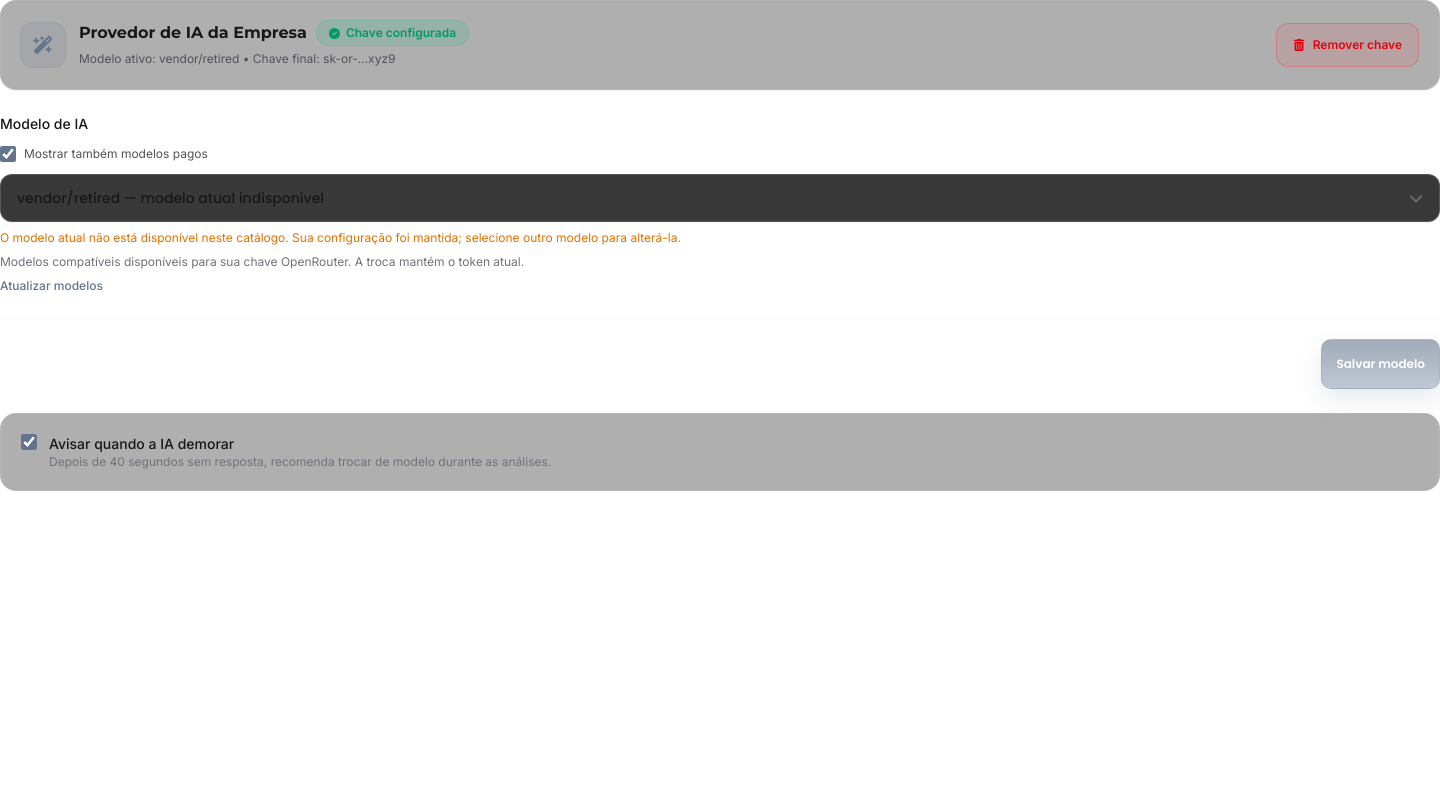
FormIaSettings — cadastro e remoção da chave › preserva modelo salvo ausente como opção desabilitada, sem selecionar outro automaticamente
Click the dropdown named "Modelo de IA".
click(170, 198)  # box x1=0 y1=174 x2=1439 y2=222
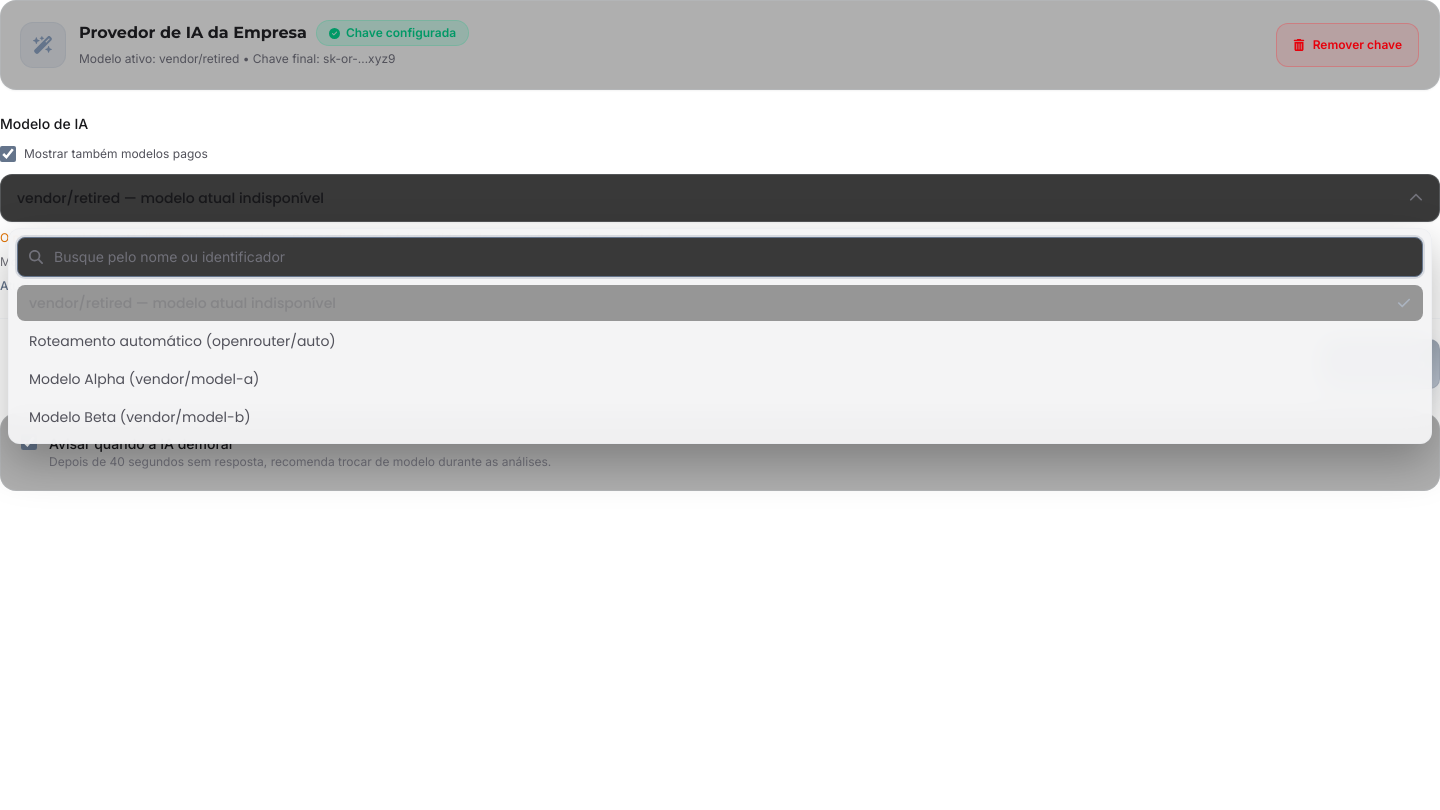
Expected: the text "O modelo atual não está disponível neste catálogo" is shown, x1=0 y1=230 x2=681 y2=244
Now the option "vendor/retired — modelo atual indisponível" is disabled, box x1=17 y1=284 x2=1423 y2=320
Click the option "Modelo Alpha (vendor/model-a)".
click(144, 378)  # box x1=17 y1=360 x2=1423 y2=396
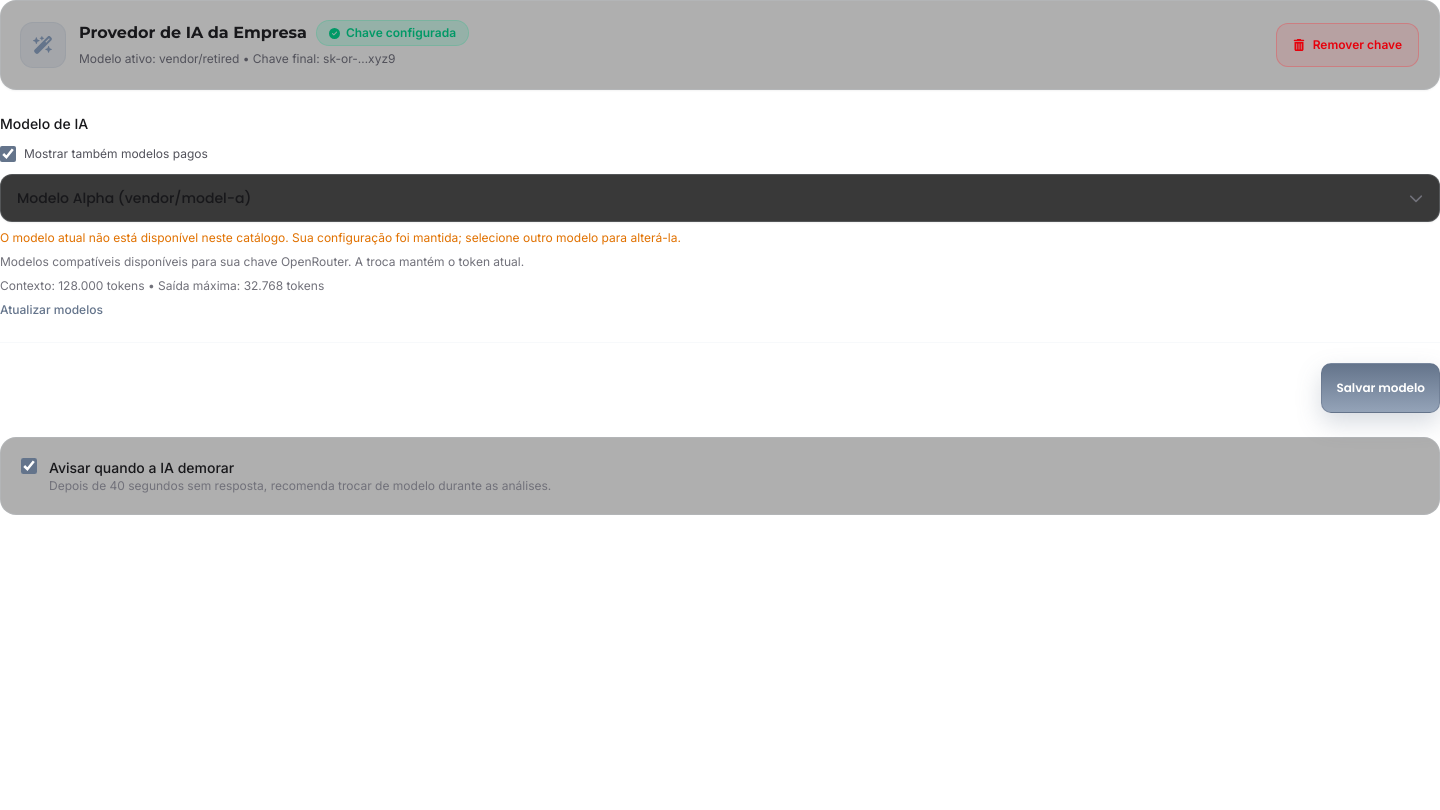
Now the button "Salvar modelo" is enabled, box x1=1321 y1=362 x2=1439 y2=412
